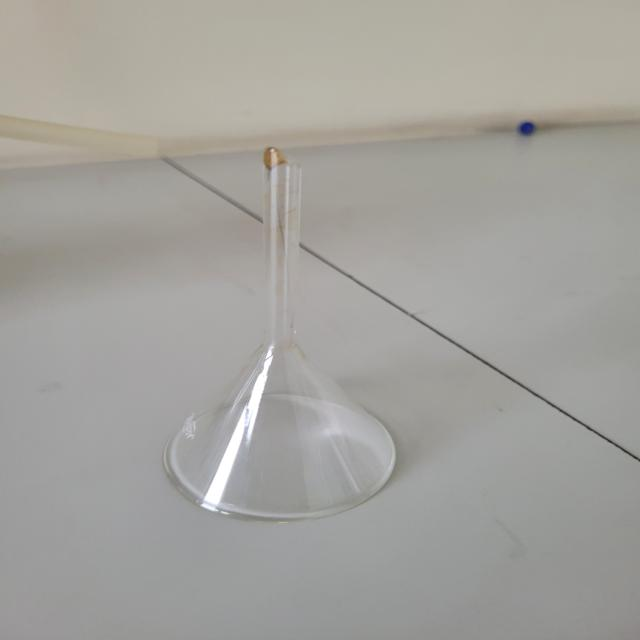Funnel: (102, 97, 467, 545)
